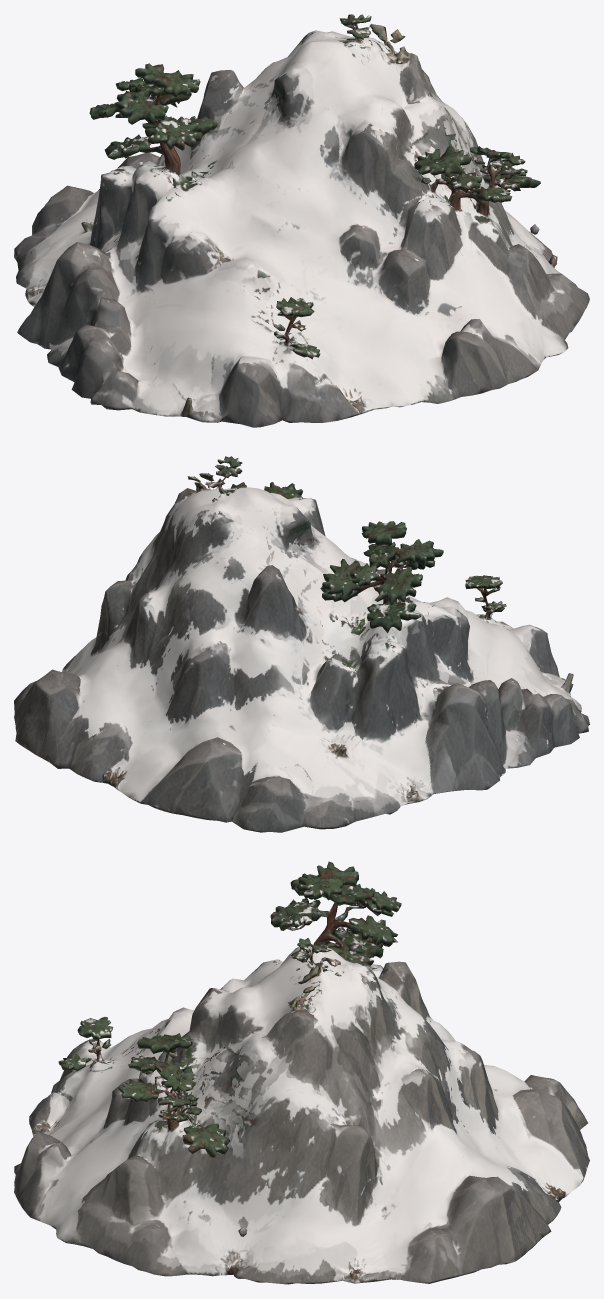
File: SnowyMountainPines.fbx
The picture shows the model from 3 angles, top to bottom: view 1: azimuth 30°, elevation 25°; view 2: azimuth 150°, elevation 25°; view 3: azimuth 270°, elevation 25°; orthographic projection. The views are drawn at different scales.
Parts seen in each view (by area): view 1: SnowyMountainPines; view 2: SnowyMountainPines; view 3: SnowyMountainPines.
Boxes of the visible parts, bbox=[...] form: SnowyMountainPines: bbox=[14, 14, 589, 427]; SnowyMountainPines: bbox=[14, 456, 589, 832]; SnowyMountainPines: bbox=[14, 861, 589, 1284].
Size of the model in its own units: 199 by 100 by 200.
1 material, 1 textured.
